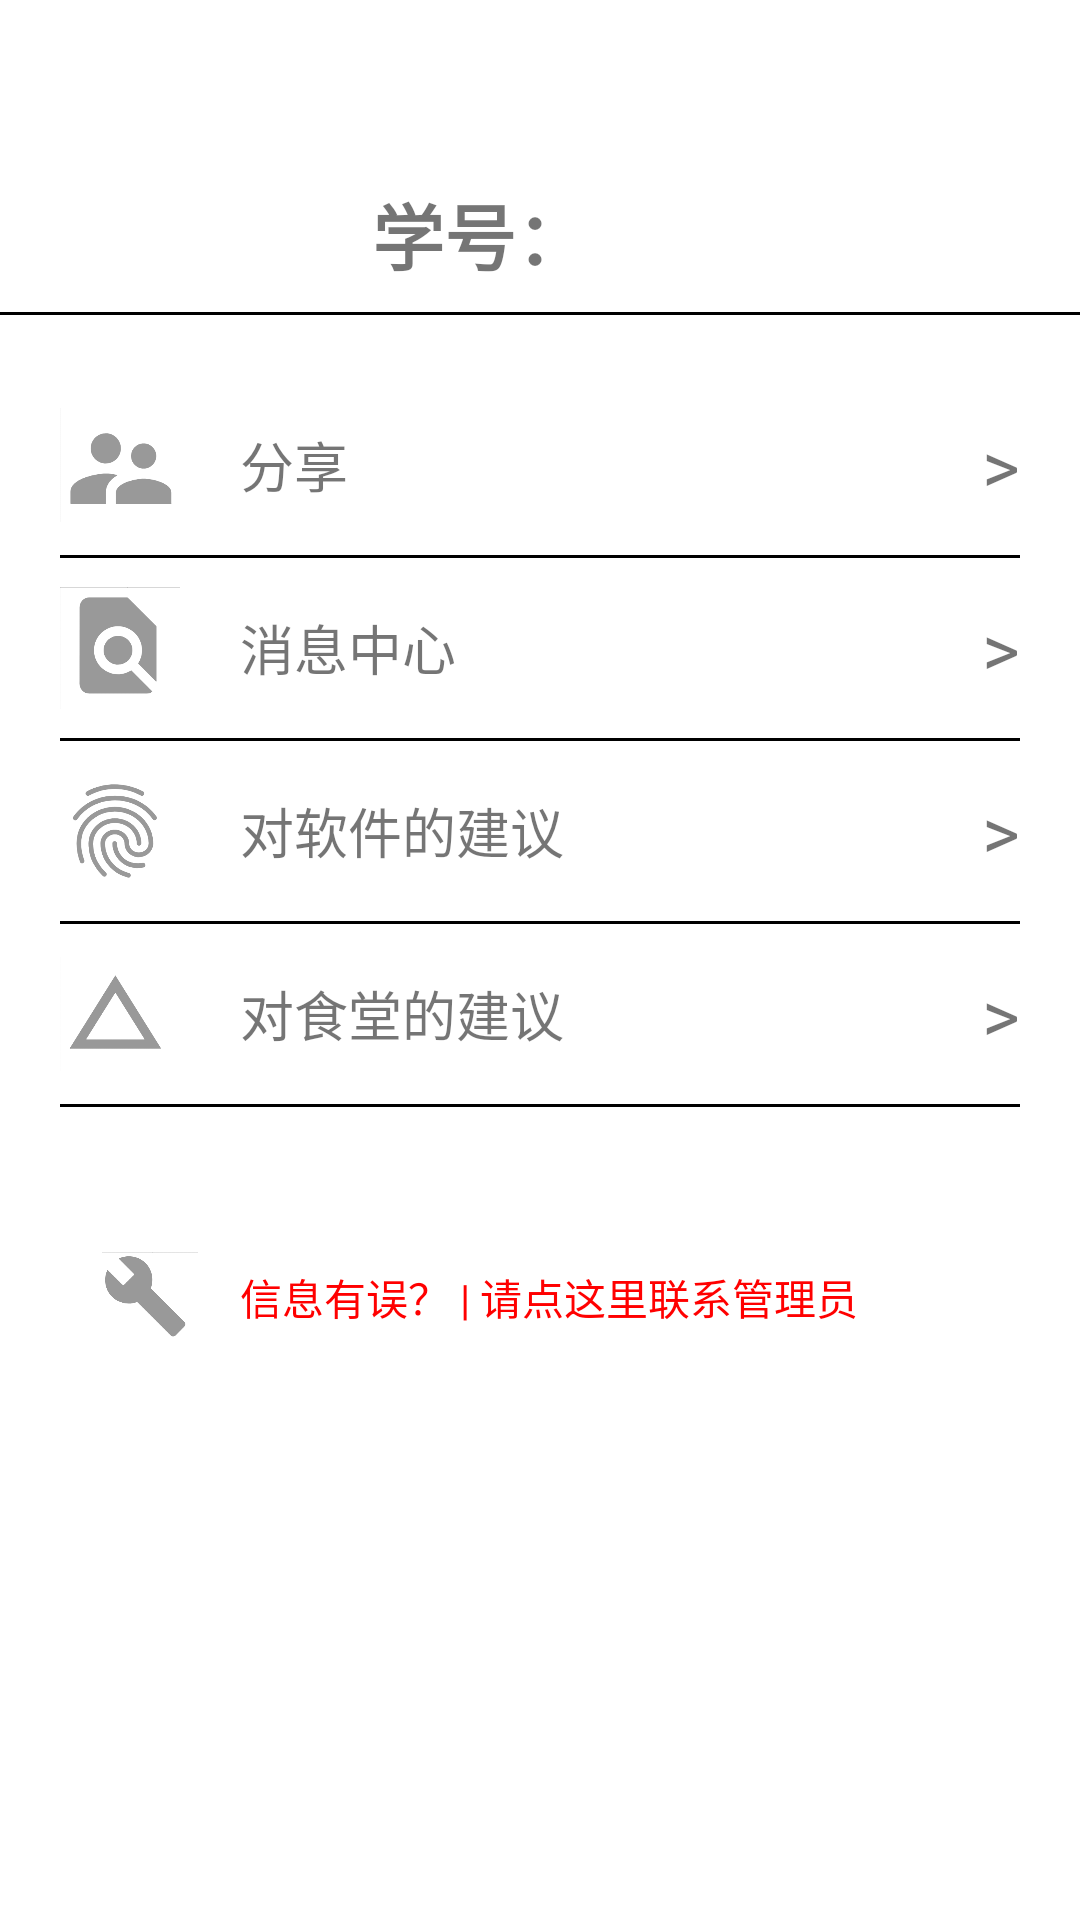

Point at icon controls on the screen. Image size 1080w x 1920h, points as point (x, y).
shezhi: point (150, 1294)
